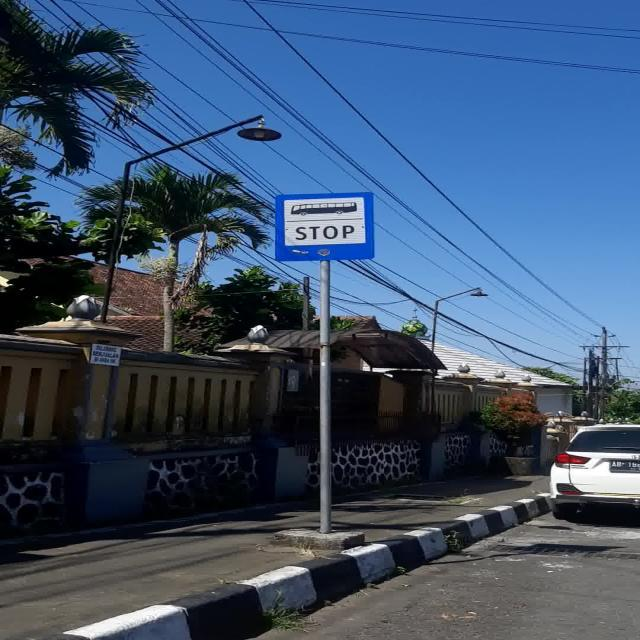Pemberhentian Bus: (274, 191, 374, 262)
